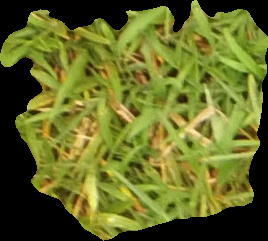grass: (1, 1, 267, 239)
